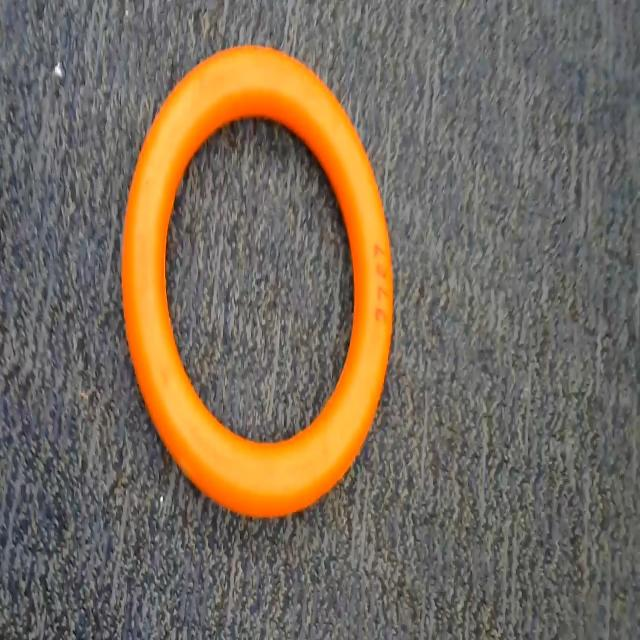note: (114, 18, 416, 525)
